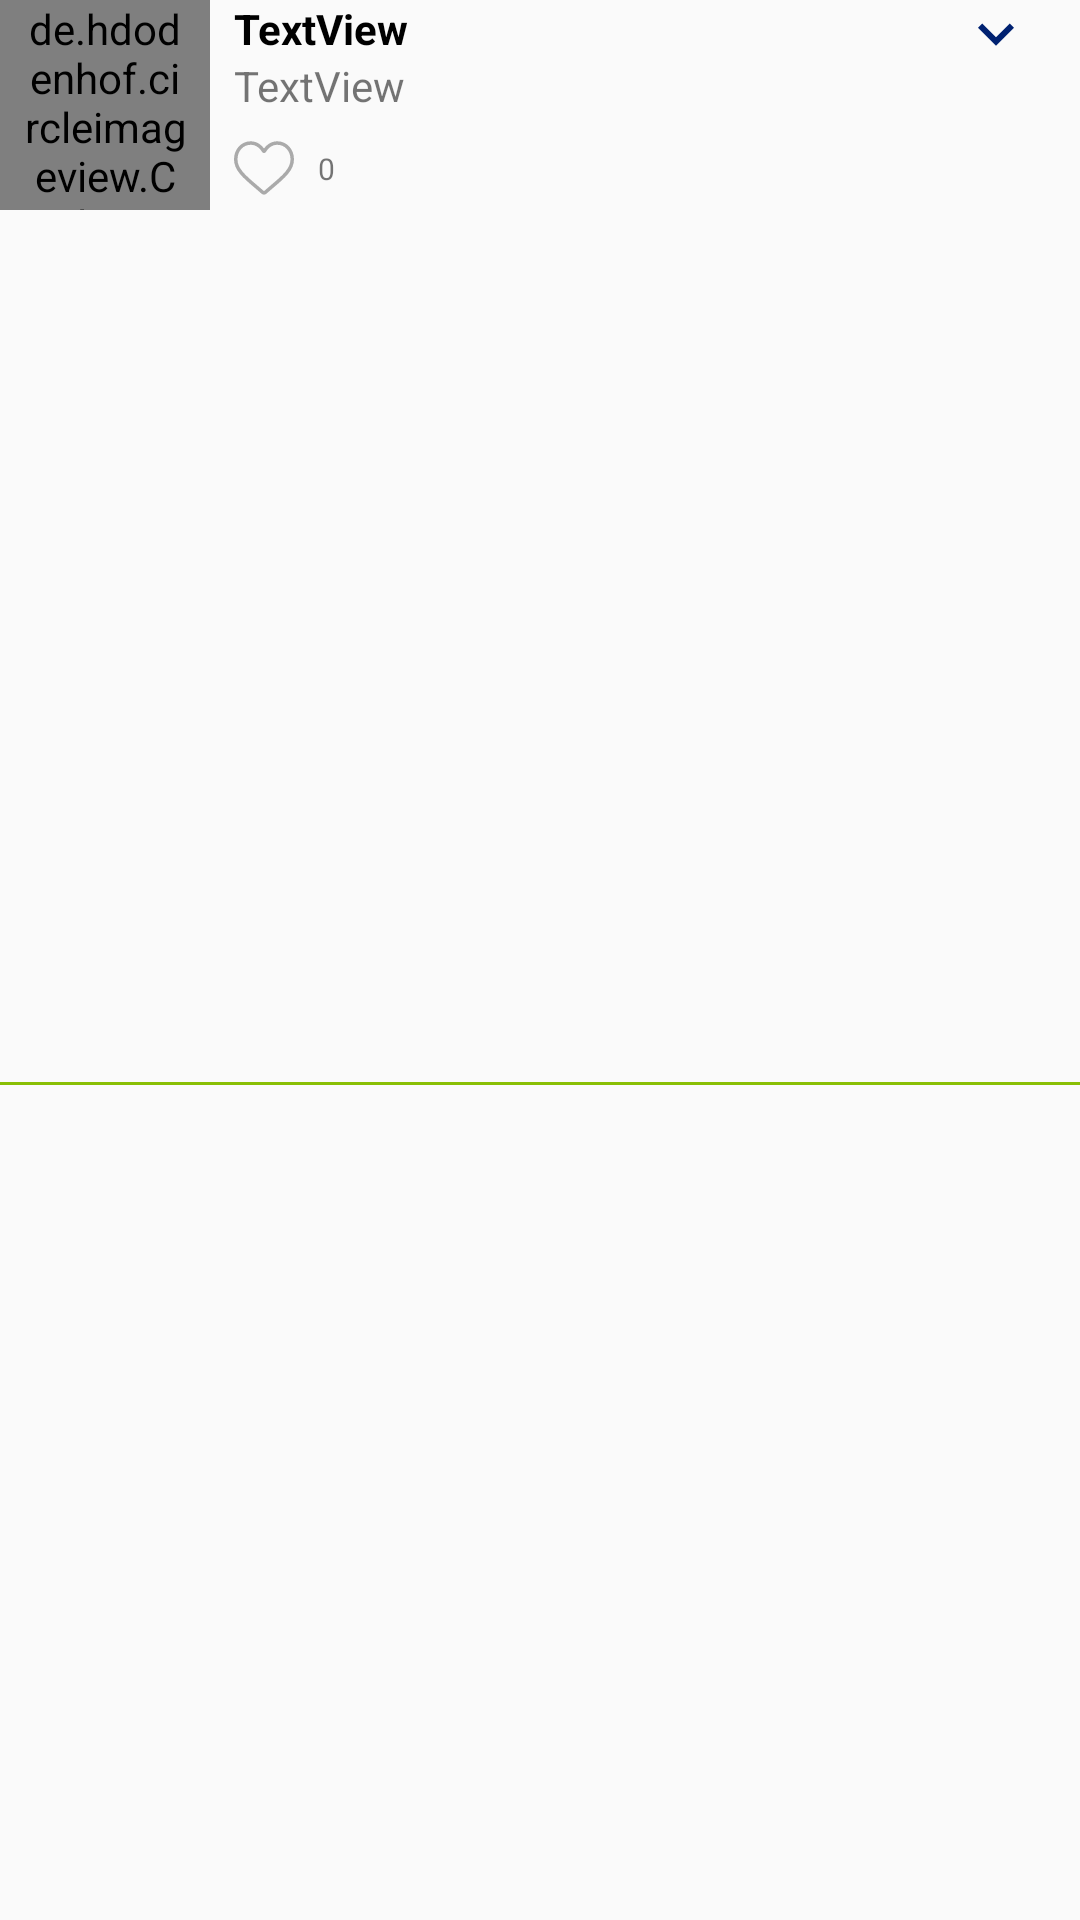

Screen size 1080*1920. Icon name, then its center in pixels as [x,y]:
keyboard arrow down gris: [996,34]
likes: [264,168]
